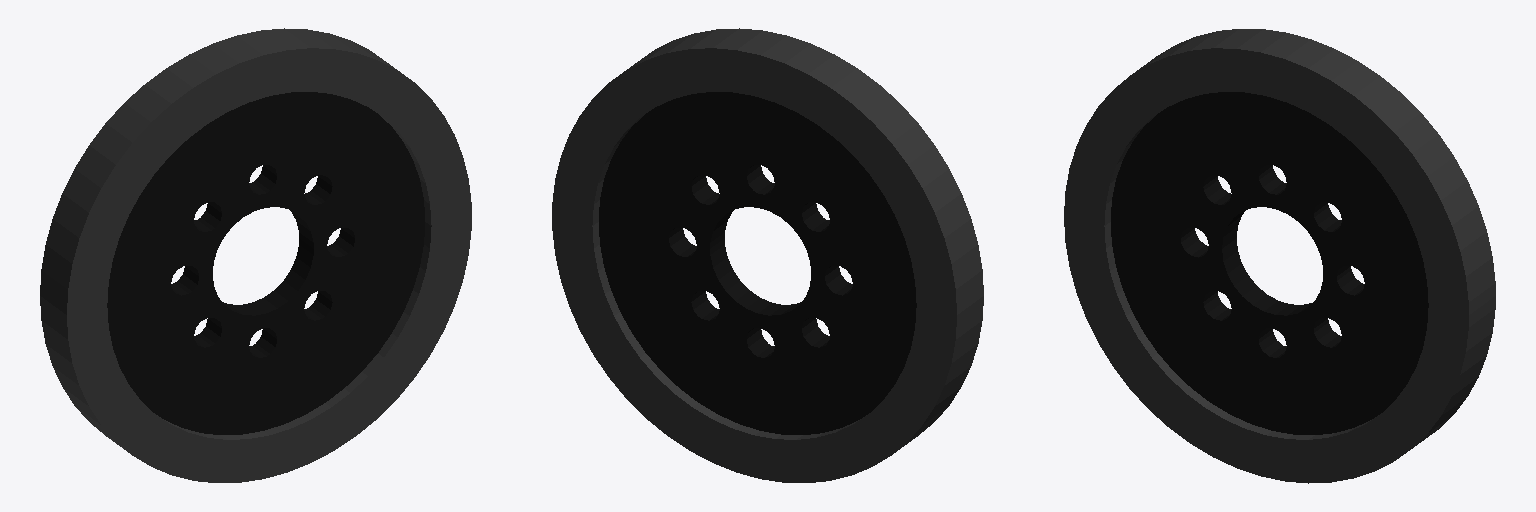
File: ROB-12537.obj
3 renders of one model, left to right at view 1: azimuth 30°, elevation 25°; view 2: azimuth 150°, elevation 25°; view 3: azimuth 330°, elevation 25°, orthographic.
Parts seen in each view (by area): view 1: mesh 2 Boss-Extrude1, mesh 1 RO; view 2: mesh 2 Boss-Extrude1, mesh 1 RO; view 3: mesh 2 Boss-Extrude1, mesh 1 RO.
Boxes of the visible parts, <box> form: mesh 2 Boss-Extrude1: <box>107,92,424,434</box>; mesh 1 RO: <box>40,28,471,482</box>; mesh 2 Boss-Extrude1: <box>599,92,916,434</box>; mesh 1 RO: <box>552,28,983,482</box>; mesh 2 Boss-Extrude1: <box>1111,92,1428,434</box>; mesh 1 RO: <box>1064,29,1495,483</box>.
Size of the model in its own units: 0.0508 by 0.0508 by 0.0058.